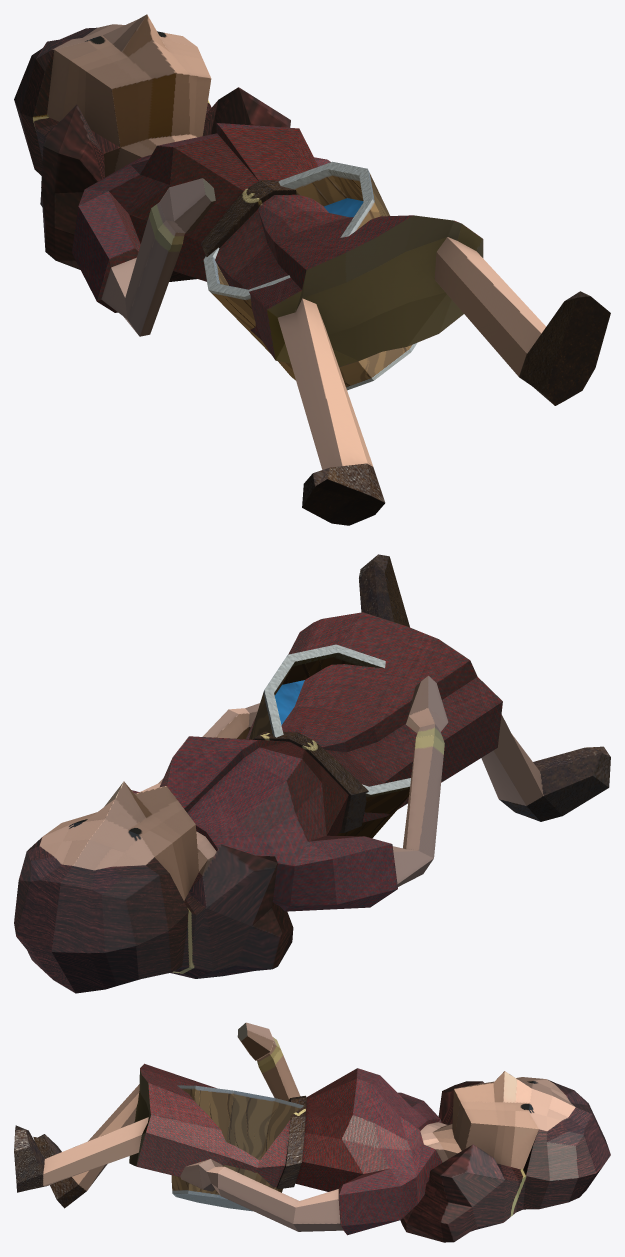
Rendered from Walk_Aldeana_24.obj.
The picture shows the model from 3 angles, top to bottom: view 1: azimuth 30°, elevation 25°; view 2: azimuth 150°, elevation 25°; view 3: azimuth 270°, elevation 25°; orthographic projection. The views are drawn at different scales.
Parts seen in each view (by area): view 1: Aldeana.001; view 2: Aldeana.001; view 3: Aldeana.001.
Part boxes in pixels (x1,y1,x2,y2): Aldeana.001: [14, 14, 610, 525]; Aldeana.001: [14, 554, 610, 993]; Aldeana.001: [14, 1022, 610, 1242].
Bounding box in the file's own units: 0.954 × 0.7723 × 2.39.
